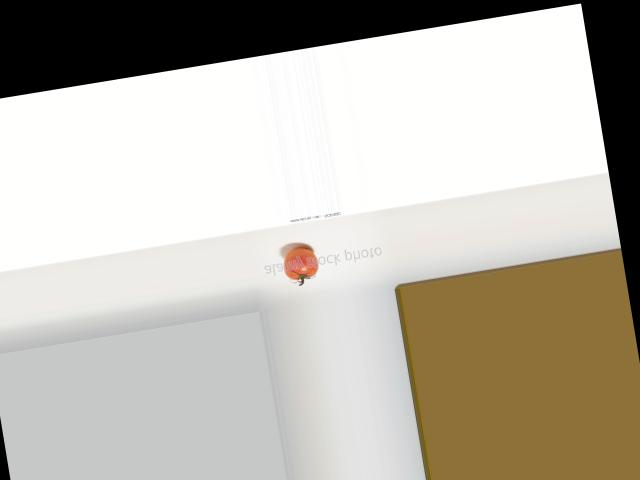tomato: (281, 245, 321, 282)
